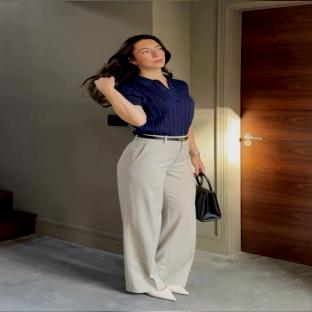Human: (82, 35, 204, 300)
